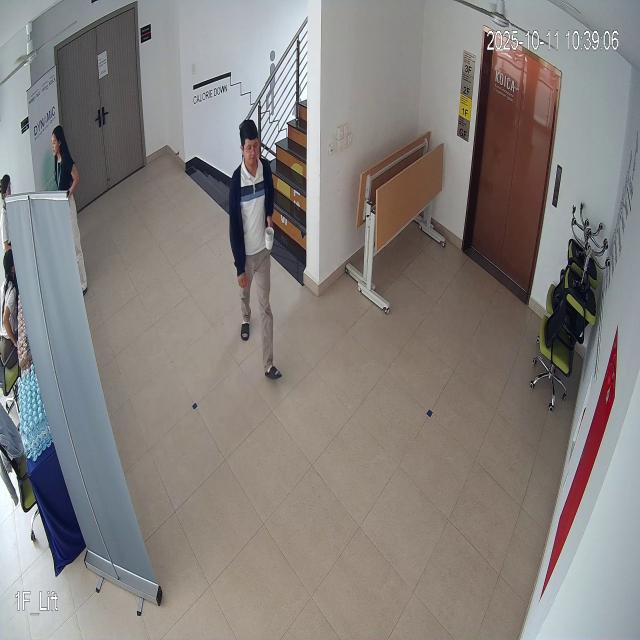face: (232, 111, 266, 177)
